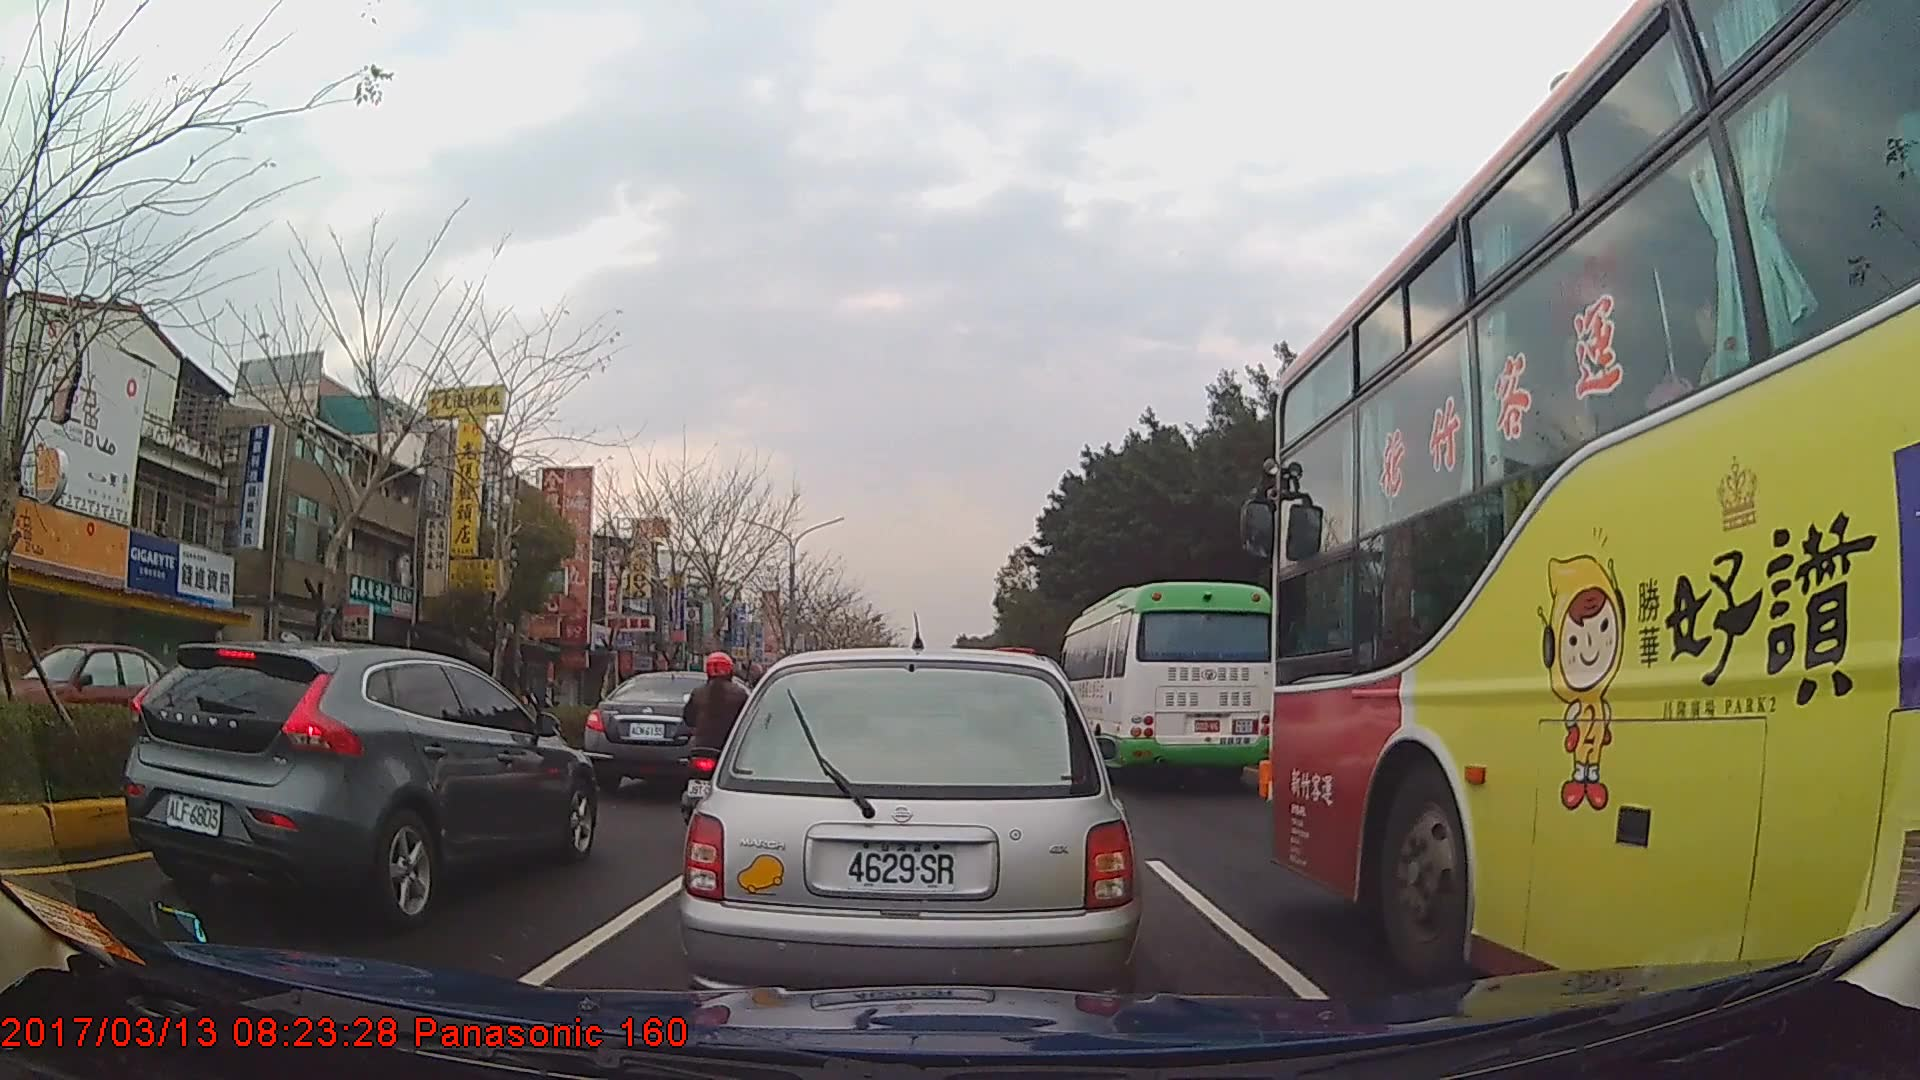rider: (679, 649, 761, 833)
vehicle: (1268, 0, 1920, 1001), (680, 640, 1143, 1017), (120, 639, 599, 931), (1057, 580, 1279, 785), (584, 670, 759, 792), (0, 639, 189, 750)
